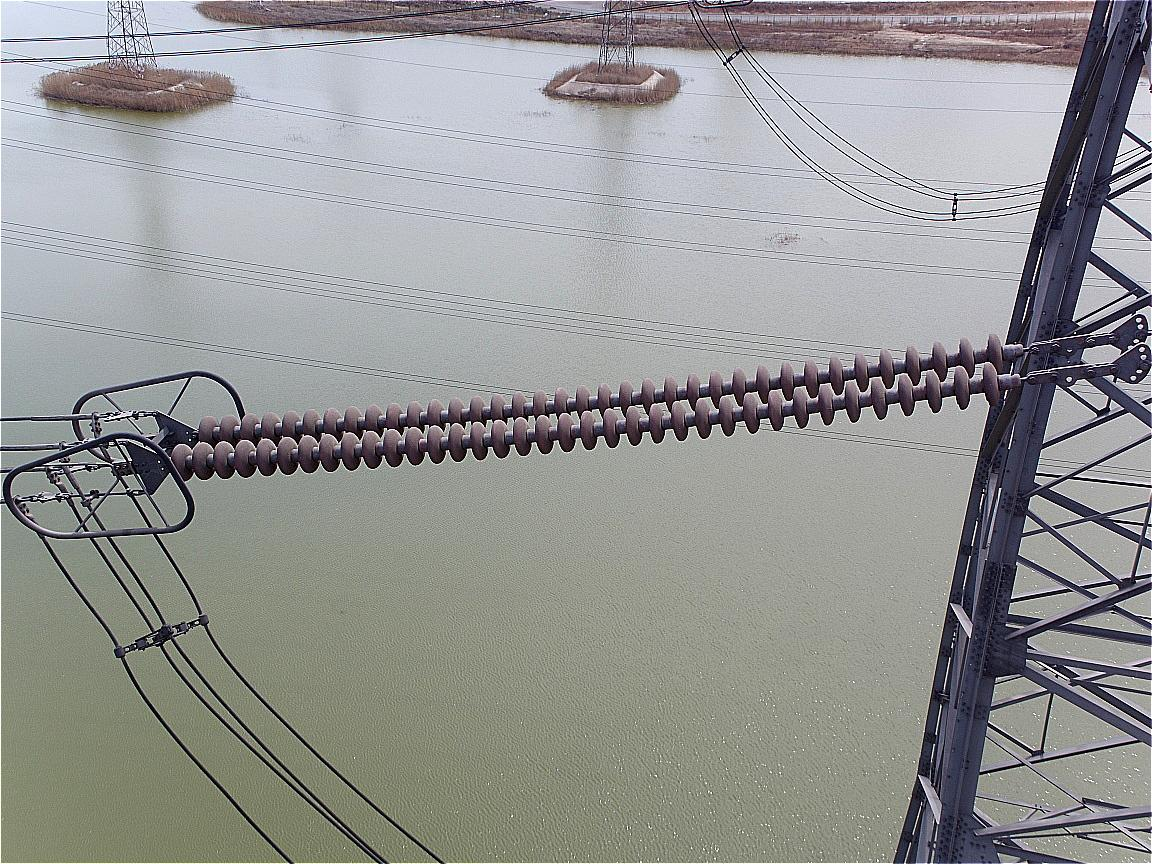insultor1: (161, 332, 1037, 518)
